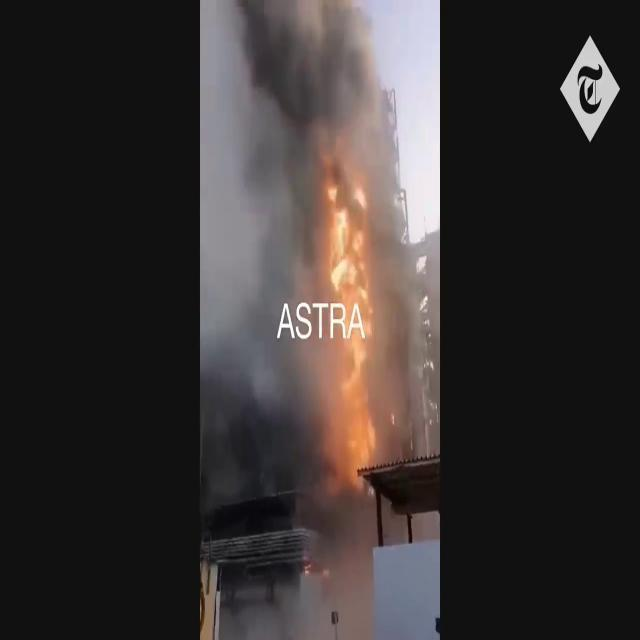Fire: (317, 177, 383, 486)
Smoke: (200, 1, 430, 483)
